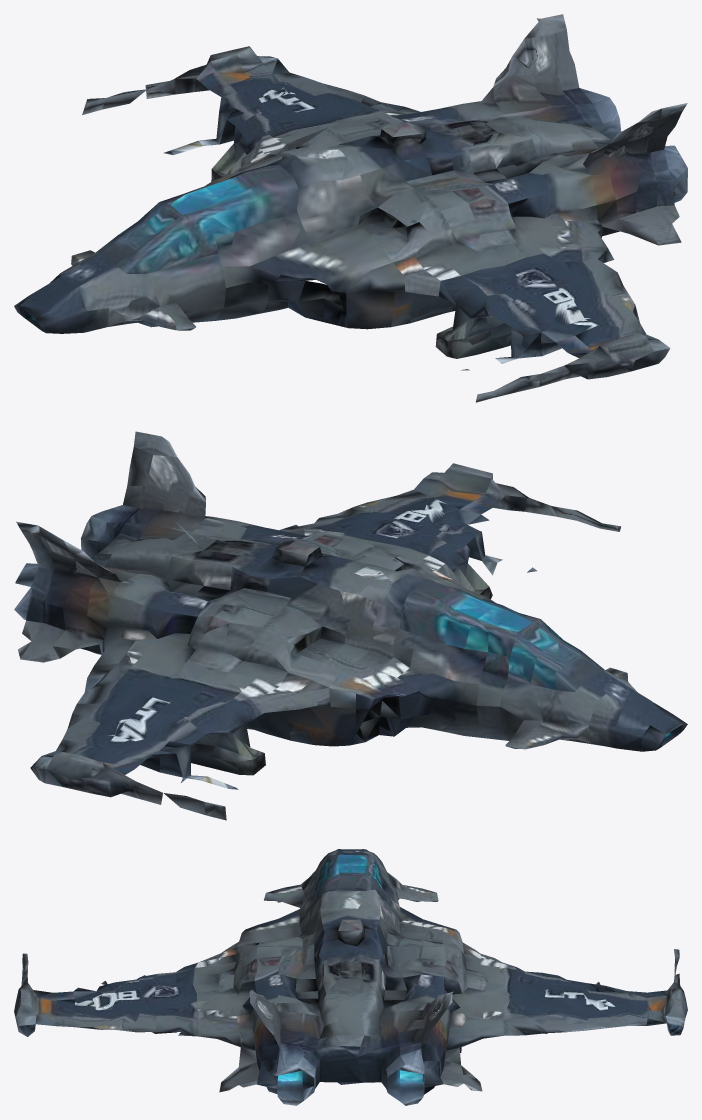
Rendered from edf_fighter_lo.glb.
The picture shows the model from 3 angles, top to bottom: view 1: azimuth 30°, elevation 25°; view 2: azimuth 150°, elevation 25°; view 3: azimuth 270°, elevation 25°; orthographic projection. The views are drawn at different scales.
Visible parts, largest first — view 1: model; view 2: model; view 3: model.
Boxes of the visible parts, x1,y1,x2,y2 form: model: (14, 14, 687, 402); model: (14, 431, 687, 820); model: (14, 849, 687, 1105).
Size of the model in its own units: 0.8649 by 0.2123 by 0.9861.
Materials: 1 (1 with a texture image).
